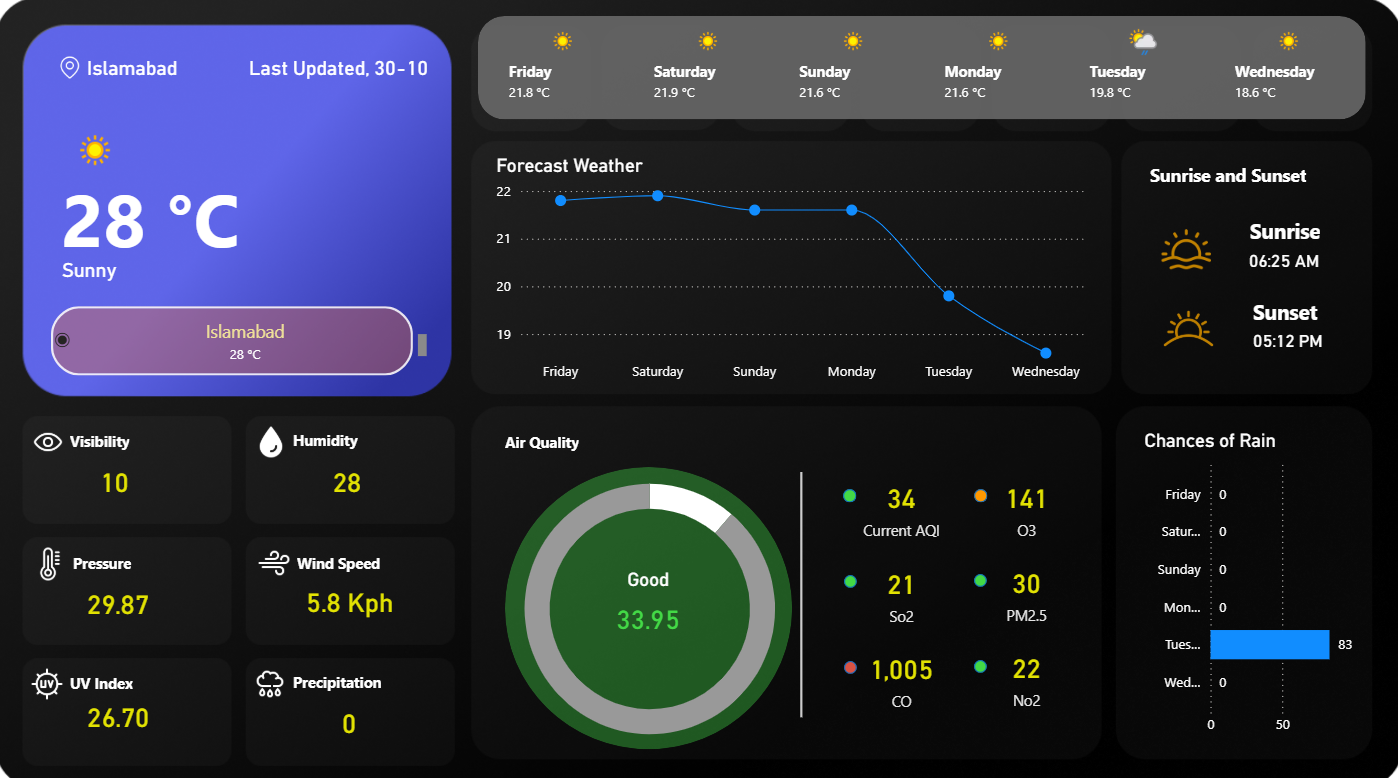

Layout of this report page (visuals, bound fields, positions):
{"tool":"powerbi","page":{"name":"Page 1","canvas":[1280,720],"ordinal":0},"visuals":[{"type":"listSlicer","fields":{"Values":["Locations.location.name"]},"box":[45,273.8,352.5,73.8],"z":0},{"type":"image","box":[28.5,382.9,40,40],"z":0,"group":"g1"},{"type":"shape","box":[36.2,153.8,210,82.5],"z":1000},{"type":"shape","box":[68.5,383.7,67.5,37.5],"z":1000,"group":"g1"},{"type":"card","fields":{"Values":["Sum(Current.current.humidity)"]},"box":[290,418.8,60,40],"z":2000},{"type":"shape","box":[71.4,494.7,67.5,37.5],"z":2000,"group":"g1"},{"type":"shape","box":[83.8,43.8,92.5,37.5],"z":3000},{"type":"shape","box":[68.5,603.8,67.5,37.5],"z":3000,"group":"g1"},{"type":"shape","box":[1049.6,141.2,181,37.4],"z":4000},{"type":"shape","box":[271.5,382.7,67.5,37.5],"z":4000,"group":"g1"},{"type":"shape","box":[231.2,43.8,166.2,37.5],"z":5000},{"type":"shape","box":[274.7,494.2,82.5,37.5],"z":5000,"group":"g1"},{"type":"shape","box":[1135.3,269,75,30.2],"z":6000},{"type":"shape","box":[270.9,602.9,86.2,37.5],"z":6000,"group":"g1"},{"type":"image","box":[50,47,35,30],"z":7000},{"type":"group","id":"g1","title":"Group 1","box":[27.7,382.7,329.5,260],"z":7000,"group":"g2"},{"type":"image","box":[230.9,382.7,40,40],"z":7000,"group":"g1"},{"type":"cardVisual","fields":{"Data":["Min(Current.current.condition.icon)"]},"box":[45,101.2,95,60],"z":8000},{"type":"image","box":[30.7,493.7,40,40],"z":8000,"group":"g1"},{"type":"card","fields":{"Values":["Sum(Current.current.vis_km)"]},"box":[79.1,418.9,59.3,39.5],"z":9000},{"type":"image","box":[233.7,492.7,40,40],"z":9000,"group":"g1"},{"type":"card","fields":{"Values":["Sum(Current.current.pressure_in)"]},"box":[54.3,529.6,114.6,39.8],"z":10000},{"type":"image","box":[27.7,602.7,40,40],"z":10000,"group":"g1"},{"type":"card","fields":{"Values":["_Measures.Wind_Speed"]},"box":[264.2,528.4,115.8,39.8],"z":11000},{"type":"image","box":[230.7,602.7,40,40],"z":11000,"group":"g1"},{"type":"shape","box":[463.3,384.9,67.6,37.4],"z":12000},{"type":"card","fields":{"Values":["Sum(Current.current.heatindex_c)"]},"box":[55,633,115,40],"z":12000,"group":"g2"},{"type":"group","id":"g2","title":"Group 4","box":[27.7,382.7,352.2,295.3],"z":13000},{"type":"card","fields":{"Values":["Sum(Current.current.precip_mm)"]},"box":[265,638.5,114.9,39.5],"z":13000,"group":"g2"},{"type":"lineChart","title":"Forecast Weather","fields":{"Category":["Forecast_Day.Days"],"Y":["Sum(Forecast_Day.forecast.forecastday.day.avgtemp_c)"]},"box":[451.2,141.2,547.7,216],"z":14000},{"type":"shape","box":[1135.3,195.4,74.8,30.2],"z":15000},{"type":"image","box":[1049.6,264.2,70,70],"z":16000},{"type":"image","box":[1055.6,200.3,55.5,55.5],"z":17000},{"type":"barChart","title":"Chances of Rain","fields":{"Y":["Sum(Forecast_Day.forecast.forecastday.day.daily_chance_of_rain)"],"Category":["Forecast_Day.Days"]},"box":[1040,390.9,206.3,287.1],"z":18000},{"type":"card","fields":{"Values":["Sum(Current.current.air_quality.o3)"]},"box":[880,425,115.7,73.3],"z":19000},{"type":"card","fields":{"Values":["Sum(Current.current.air_quality.pm2_5)"]},"box":[880,502.9,115.7,73.3],"z":20000},{"type":"card","fields":{"Values":["Sum(Current.current.air_quality.no2)"]},"box":[880,580,115.7,73.3],"z":21000},{"type":"card","fields":{"Values":["_Left_value_PM1o.Current AQI"]},"box":[766,425.2,115.7,73.3],"z":22000},{"type":"card","fields":{"Values":["Sum(Current.current.air_quality.so2)"]},"box":[766.1,503.6,115.7,73.3],"z":23000},{"type":"card","fields":{"Values":["Sum(Current.current.air_quality.co)"]},"box":[766.1,580.7,115.7,73.3],"z":24000},{"type":"shape","box":[890,445,12.3,12.3],"z":25000},{"type":"shape","box":[890,523,11.7,11.7],"z":26000},{"type":"shape","box":[771,445,12.3,12.3],"z":27000},{"type":"shape","box":[771.7,523.3,11.7,11.7],"z":28000},{"type":"shape","box":[771.7,601.7,11.7,11.7],"z":29000},{"type":"shape","box":[890,601,11.7,11.7],"z":30000},{"type":"shape","box":[706.7,430,53.3,223.3],"z":31000},{"type":"shape","box":[463.7,425.8,261,256.6],"z":33000},{"type":"shape","box":[61,227,92,37],"z":34000},{"type":"shape","box":[1140,218,92,37],"z":35000},{"type":"shape","box":[1143.7,290.8,91.7,37.4],"z":36000},{"type":"shape","box":[439.1,15.7,807.1,94.1],"z":37000},{"type":"advancedSlicerVisual","fields":{"Values":["Forecast_Day.Days"]},"box":[449.1,17.5,796.2,93.3],"z":38000},{"type":"donutChart","fields":{"Y":["Sum(Current.current.air_quality.pm10)","_Left_value_PM1o.Left_val_pm10"]},"box":[443.3,406.8,303.3,294.6],"z":39000},{"type":"card","fields":{"Values":["Sum(Current.current.air_quality.pm10)"]},"box":[536.6,517.7,115.2,72.9],"z":39500}]}

Visuals, with their boxes in screenshot pixels (x1, y1, x2, y2), scaled from the page's 1280x720 canvas onto the 1398x778 screenshot:
listSlicer - Locations.location.name: [left=49, top=296, right=434, bottom=376]
image: [left=31, top=414, right=75, bottom=457]
shape: [left=40, top=166, right=269, bottom=255]
shape: [left=75, top=415, right=149, bottom=455]
card - Sum(Current.current.humidity): [left=317, top=453, right=382, bottom=496]
shape: [left=78, top=535, right=152, bottom=575]
shape: [left=92, top=47, right=193, bottom=88]
shape: [left=75, top=652, right=149, bottom=693]
shape: [left=1146, top=153, right=1344, bottom=193]
shape: [left=297, top=414, right=370, bottom=454]
shape: [left=253, top=47, right=434, bottom=88]
shape: [left=300, top=534, right=390, bottom=575]
shape: [left=1240, top=291, right=1322, bottom=323]
shape: [left=296, top=651, right=390, bottom=692]
image: [left=55, top=51, right=93, bottom=83]
"Group 1" group: [left=30, top=414, right=390, bottom=694]
image: [left=252, top=414, right=296, bottom=457]
cardVisual - Min(Current.current.condition.icon): [left=49, top=109, right=153, bottom=174]
image: [left=34, top=533, right=77, bottom=577]
card - Sum(Current.current.vis_km): [left=86, top=453, right=151, bottom=495]
image: [left=255, top=532, right=299, bottom=576]
card - Sum(Current.current.pressure_in): [left=59, top=572, right=184, bottom=615]
image: [left=30, top=651, right=74, bottom=694]
card - _Measures.Wind_Speed: [left=289, top=571, right=415, bottom=614]
image: [left=252, top=651, right=296, bottom=694]
shape: [left=506, top=416, right=580, bottom=456]
card - Sum(Current.current.heatindex_c): [left=60, top=684, right=186, bottom=727]
"Group 4" group: [left=30, top=414, right=415, bottom=733]
card - Sum(Current.current.precip_mm): [left=289, top=690, right=415, bottom=733]
"Forecast Weather" lineChart: [left=493, top=153, right=1091, bottom=386]
shape: [left=1240, top=211, right=1322, bottom=244]
image: [left=1146, top=285, right=1223, bottom=361]
image: [left=1153, top=216, right=1214, bottom=276]
"Chances of Rain" barChart: [left=1136, top=422, right=1361, bottom=733]
card - Sum(Current.current.air_quality.o3): [left=961, top=459, right=1087, bottom=538]
card - Sum(Current.current.air_quality.pm2_5): [left=961, top=543, right=1087, bottom=623]
card - Sum(Current.current.air_quality.no2): [left=961, top=627, right=1087, bottom=706]
card - _Left_value_PM1o.Current AQI: [left=837, top=459, right=963, bottom=539]
card - Sum(Current.current.air_quality.so2): [left=837, top=544, right=963, bottom=623]
card - Sum(Current.current.air_quality.co): [left=837, top=627, right=963, bottom=707]
shape: [left=972, top=481, right=985, bottom=494]
shape: [left=972, top=565, right=985, bottom=578]
shape: [left=842, top=481, right=856, bottom=494]
shape: [left=843, top=565, right=856, bottom=578]
shape: [left=843, top=650, right=856, bottom=663]
shape: [left=972, top=649, right=985, bottom=662]
shape: [left=772, top=465, right=830, bottom=706]
shape: [left=506, top=460, right=792, bottom=737]
shape: [left=67, top=245, right=167, bottom=285]
shape: [left=1245, top=236, right=1346, bottom=276]
shape: [left=1249, top=314, right=1349, bottom=355]
shape: [left=480, top=17, right=1361, bottom=119]
advancedSlicerVisual - Forecast_Day.Days: [left=491, top=19, right=1360, bottom=120]
donutChart - Sum(Current.current.air_quality.pm10) x _Left_value_PM1o.Left_val_pm10: [left=484, top=440, right=815, bottom=758]
card - Sum(Current.current.air_quality.pm10): [left=586, top=559, right=712, bottom=638]
